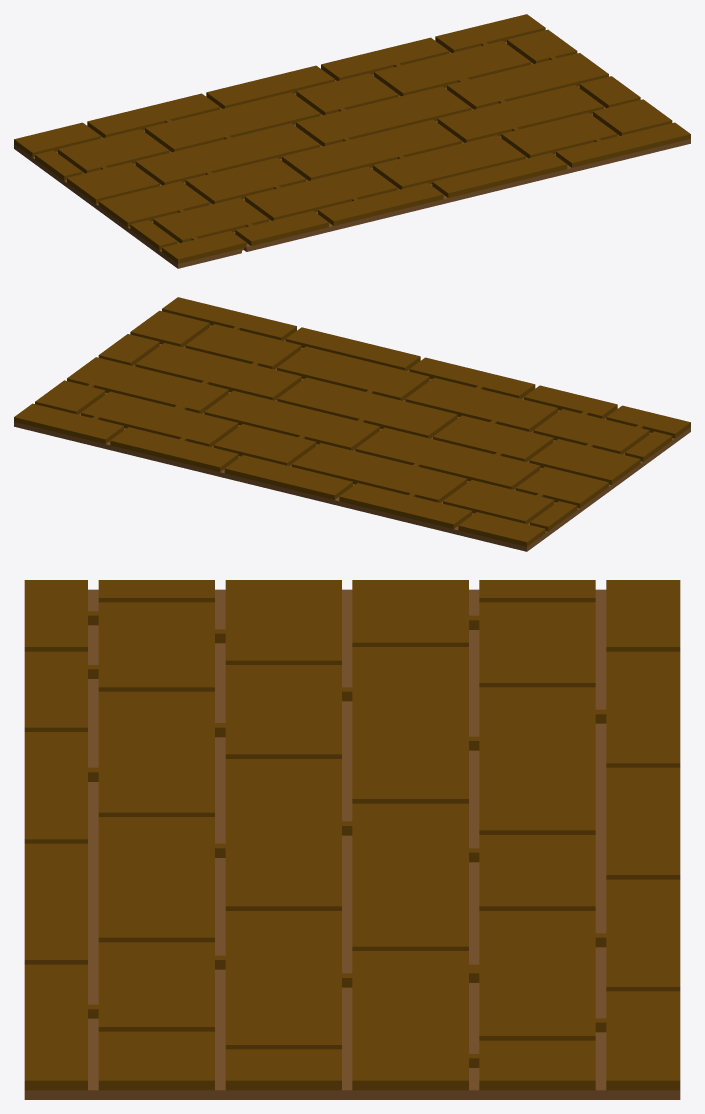
File: table.obj
The picture shows the model from 3 angles, top to bottom: view 1: azimuth 30°, elevation 25°; view 2: azimuth 150°, elevation 25°; view 3: azimuth 270°, elevation 25°; orthographic projection. The views are drawn at different scales.
Size of the model in its own units: 112 by 2 by 62.
Materials: 1 (1 with a texture image).
